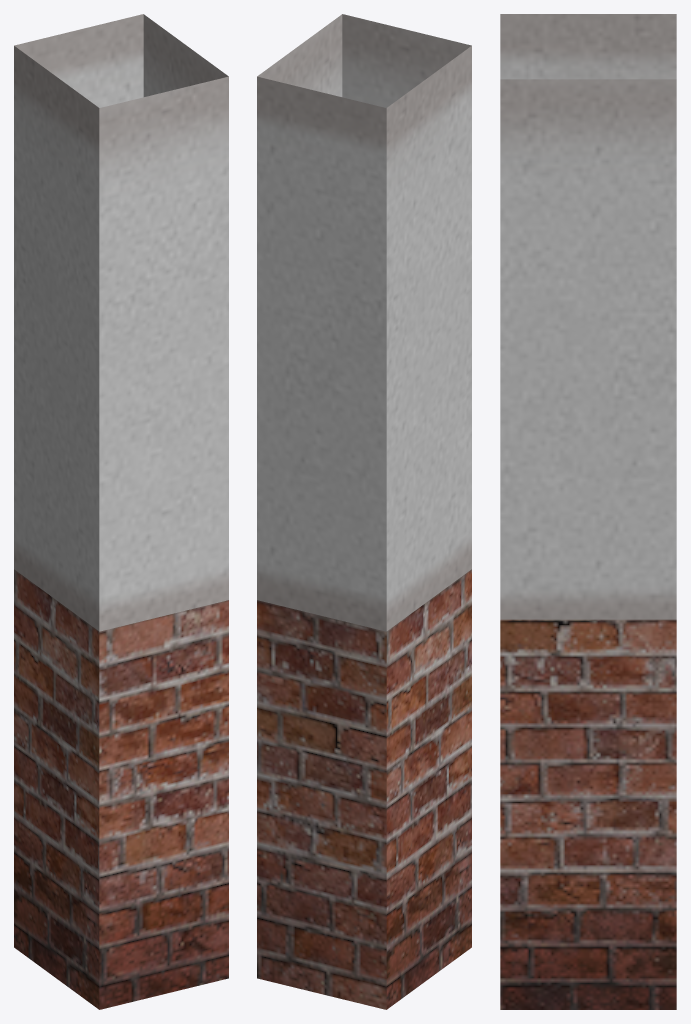
The model's file is Outside_pillar.FBX.
The picture shows the model from 3 angles, left to right: view 1: azimuth 30°, elevation 25°; view 2: azimuth 150°, elevation 25°; view 3: azimuth 270°, elevation 25°; orthographic projection. The views are drawn at different scales.
Visible parts, largest first — view 1: Outside_pillar; view 2: Outside_pillar; view 3: Outside_pillar.
Part boxes in pixels (bbox=[...]): Outside_pillar: bbox=[14, 14, 228, 1009]; Outside_pillar: bbox=[257, 14, 471, 1009]; Outside_pillar: bbox=[500, 14, 676, 1009].
Size of the model in its own units: 52.59 by 350 by 60.1.
1 material, 1 textured.
